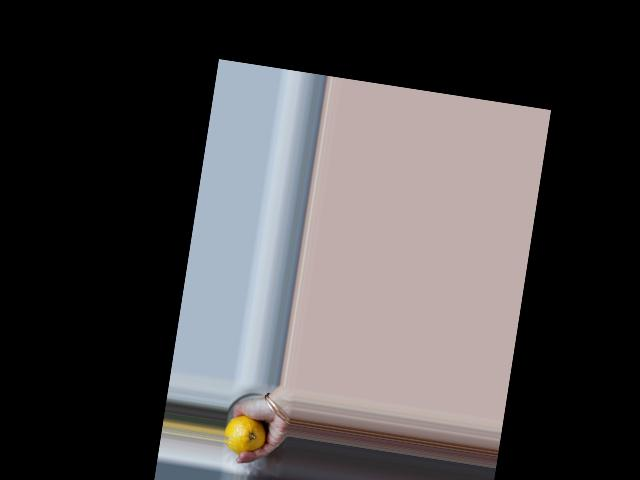lemon: (223, 415, 268, 457)
